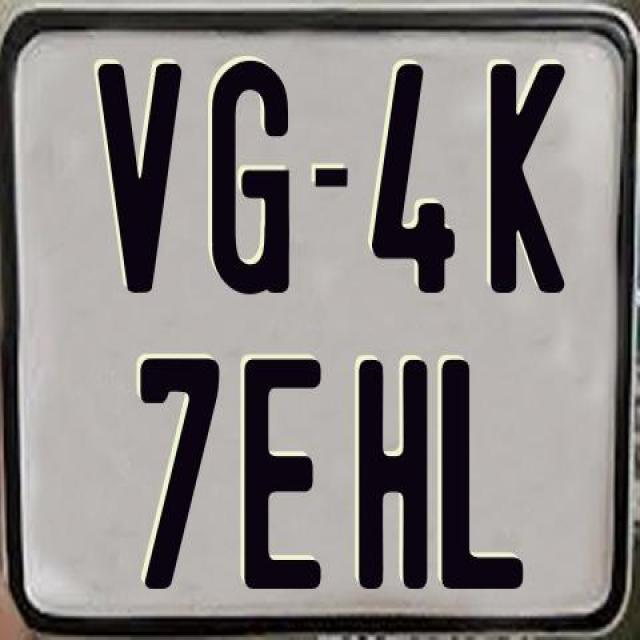4: (370, 62, 454, 293)
7: (138, 355, 224, 595)
E: (242, 353, 326, 584)
G: (210, 59, 292, 296)
H: (357, 355, 435, 592)
K: (490, 59, 566, 290)
L: (438, 361, 528, 594)
V: (97, 61, 183, 292)
